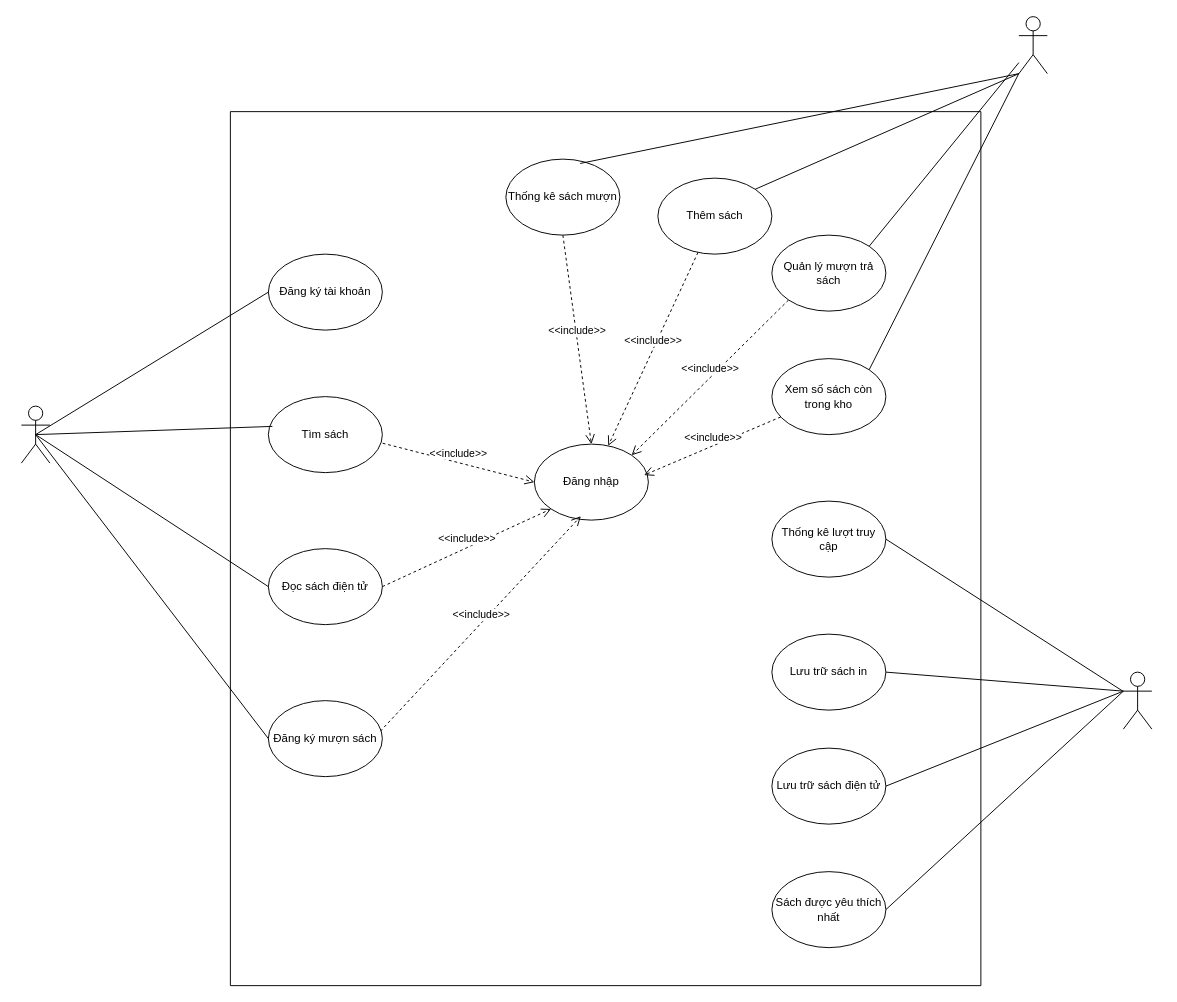
Some shapes in this 1177 by 1002 pixel diagram are drawn without their labels. The centre of each missing label's shape, as x and y in pixels:
Hệ thống: the point at 1137,700
Thủ thư: the point at 1032,45
Độc giả: the point at 35,434
